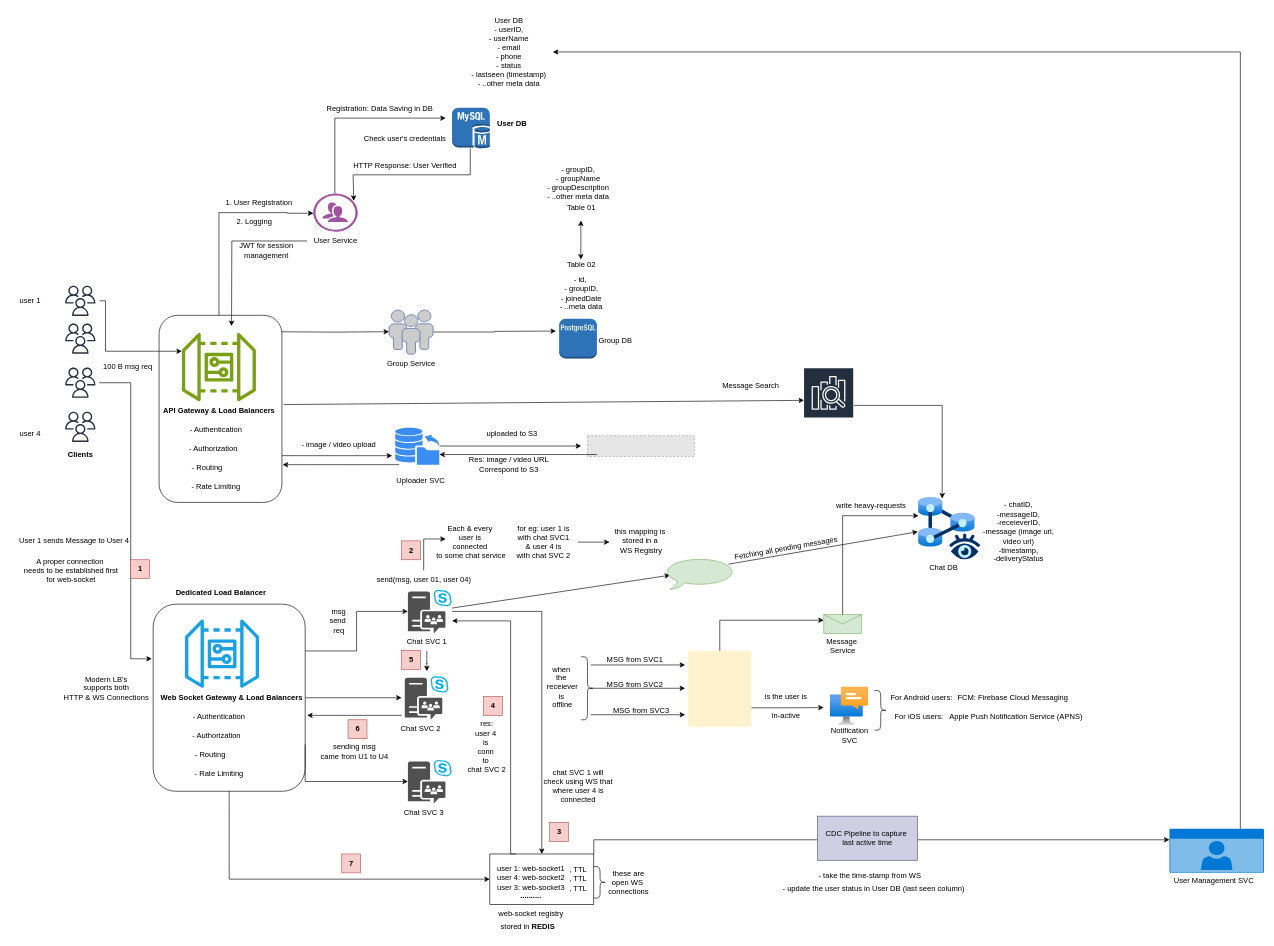
This 1274x946 diagram has some shape labels left out. Grey dashed boxes stand in for pictures. Each missing label, with the box of its shape:
Amazon Elasticsearch Service: (803, 367, 854, 443)
MSG SVC 02: (663, 557, 736, 589)
REDIS Streaming / KAFKA Streaming: (688, 651, 751, 726)
User: (1169, 828, 1264, 873)
